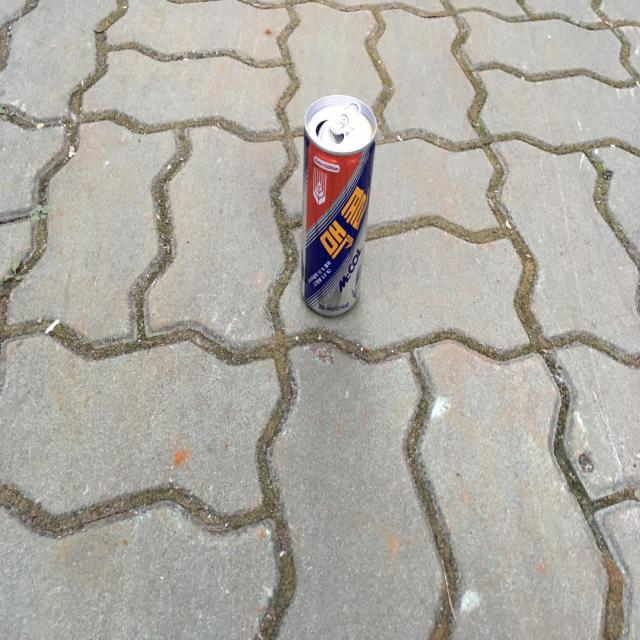can: (302, 94, 377, 316)
